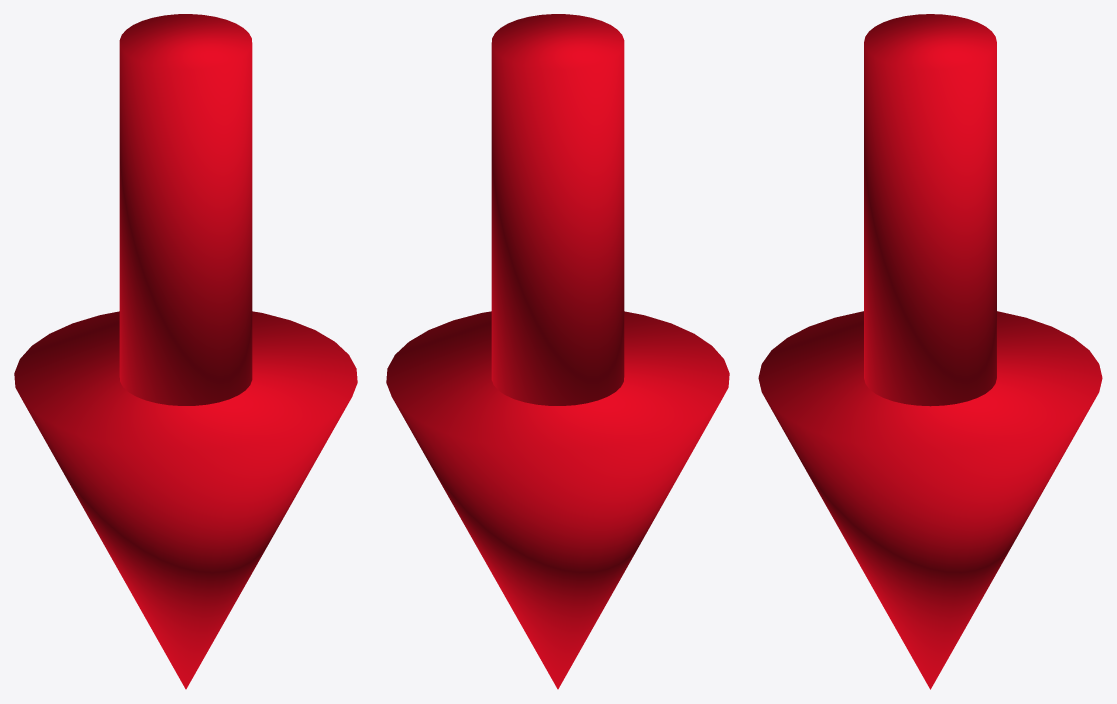
The model's file is Arrow.fbx.
3 views of the same model, side by side, from view 1: azimuth 30°, elevation 25°; view 2: azimuth 150°, elevation 25°; view 3: azimuth 270°, elevation 25° (orthographic).
Parts seen in each view (by area): view 1: 円錐; view 2: 円錐; view 3: 円錐.
Boxes of the visible parts, x1,y1,x2,y2 form: 円錐: [14, 14, 357, 689]; 円錐: [386, 14, 729, 689]; 円錐: [758, 14, 1102, 689].
Bounding box in the file's own units: 200 × 416 × 200.
